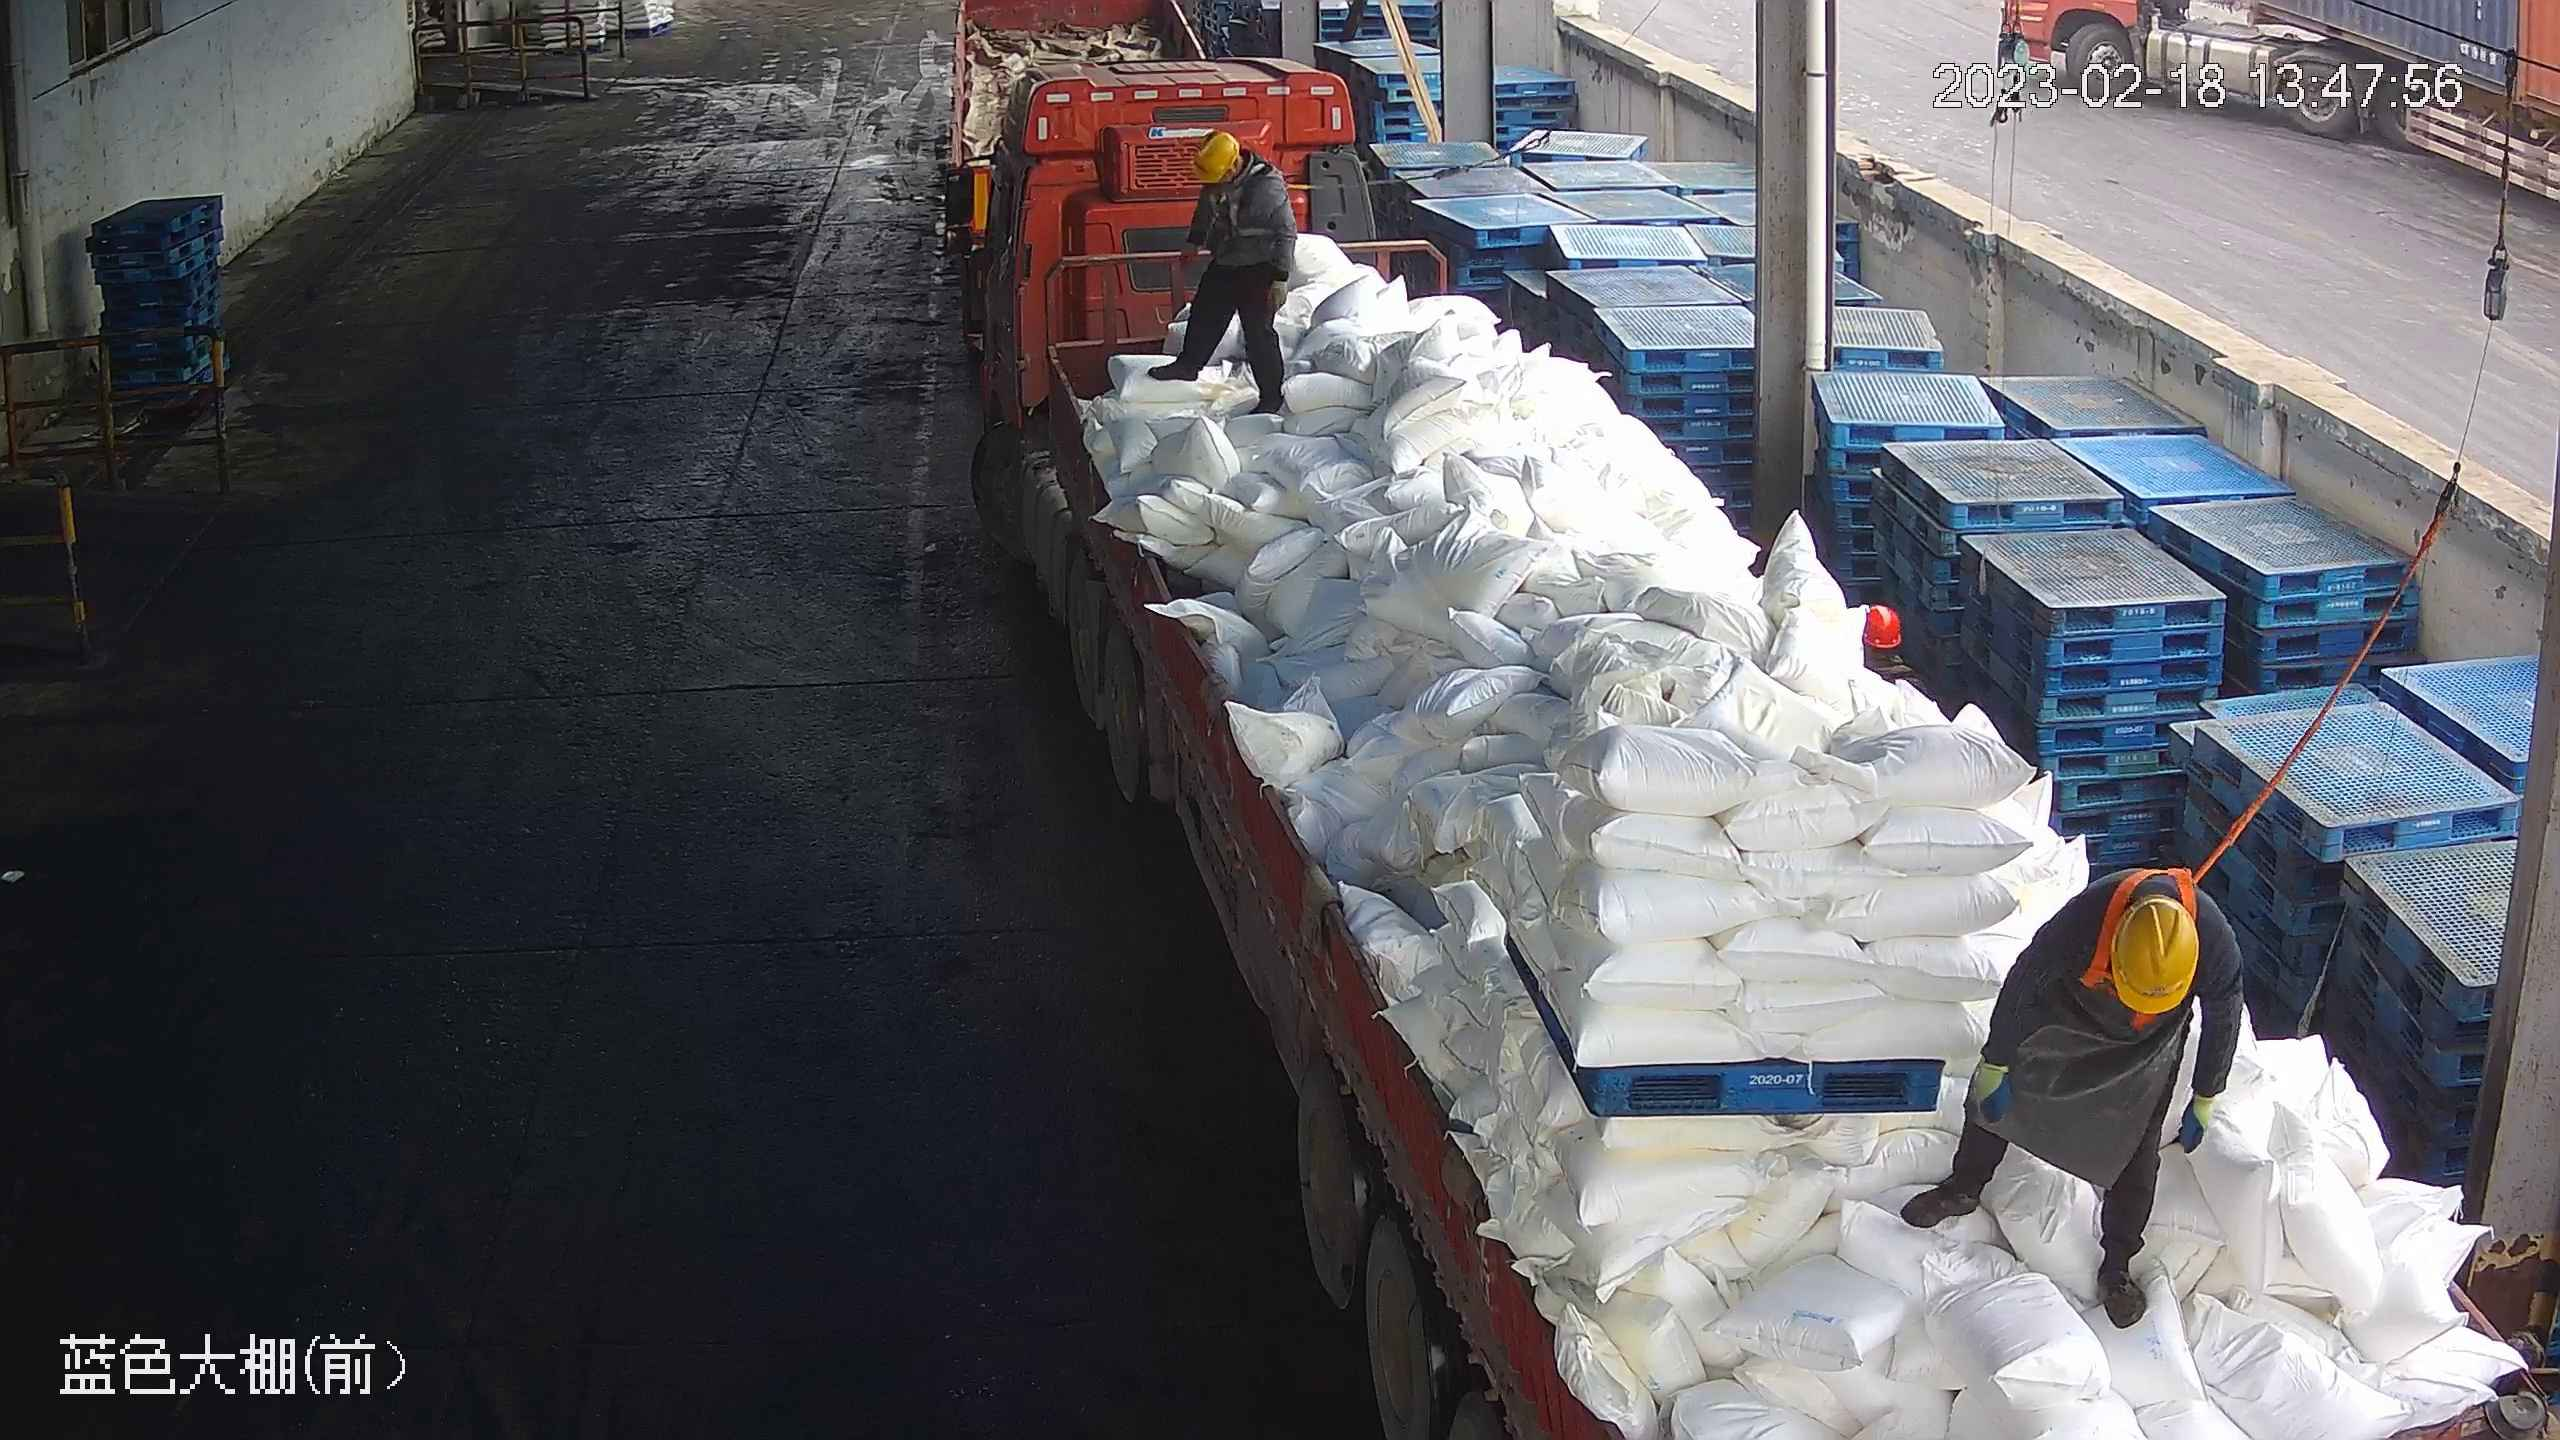belt: (2098, 860, 2210, 1016), (1207, 155, 1296, 236)
head: (2037, 864, 2232, 1057), (1186, 126, 1288, 215)
helmet: (2103, 881, 2200, 1016), (1191, 128, 1243, 183), (1862, 602, 1908, 647)
people: (1908, 865, 2242, 1329), (1163, 119, 1298, 414)
truck: (948, 43, 2558, 1439)
